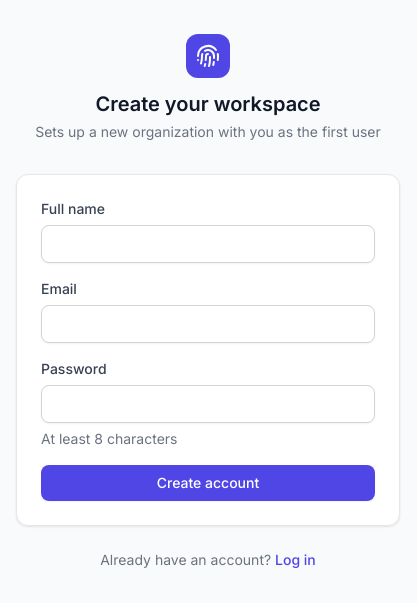
Test: RegisterPage › shows the server error on failure (e.g. duplicate email) without crashing
This screenshot has width=417, height=603.
Type "Ada" into the field labelled "Full name" at (208, 244), box [41,225,375,263]
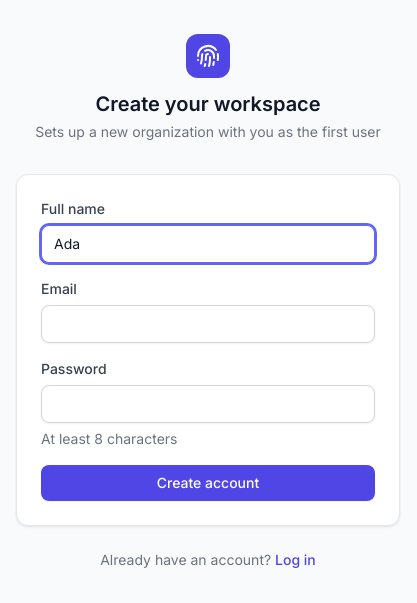
Type "ada@acme.com" into the field labelled "Email" at (208, 324), box [41,305,375,343]
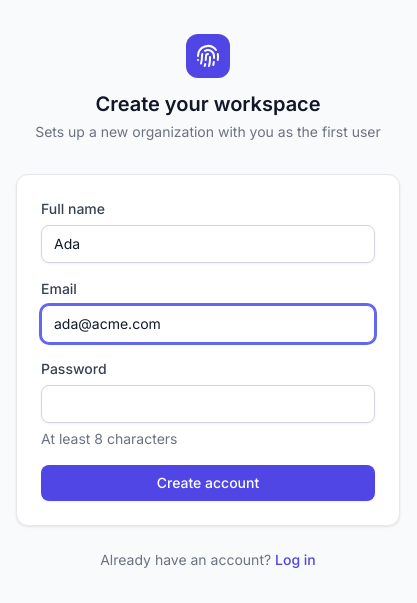
Type "password123" into the password field labelled "Password" at (208, 404), box [41,385,375,423]
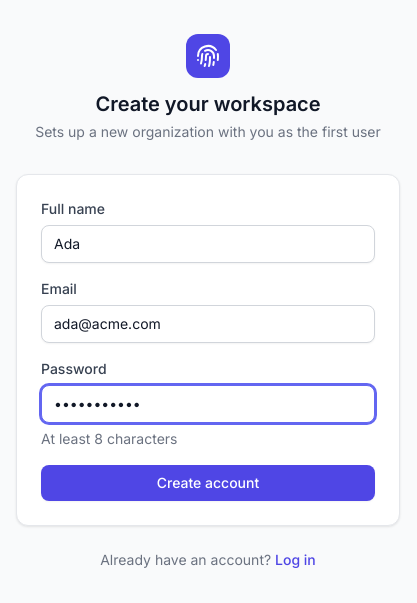
Click the button "Create account" at (208, 483), box [41,465,375,501]
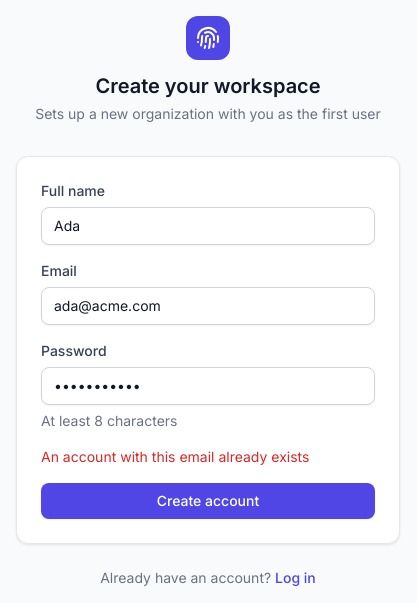
Result: the text "An account with this email already exists" is shown at [41,448,309,465]
